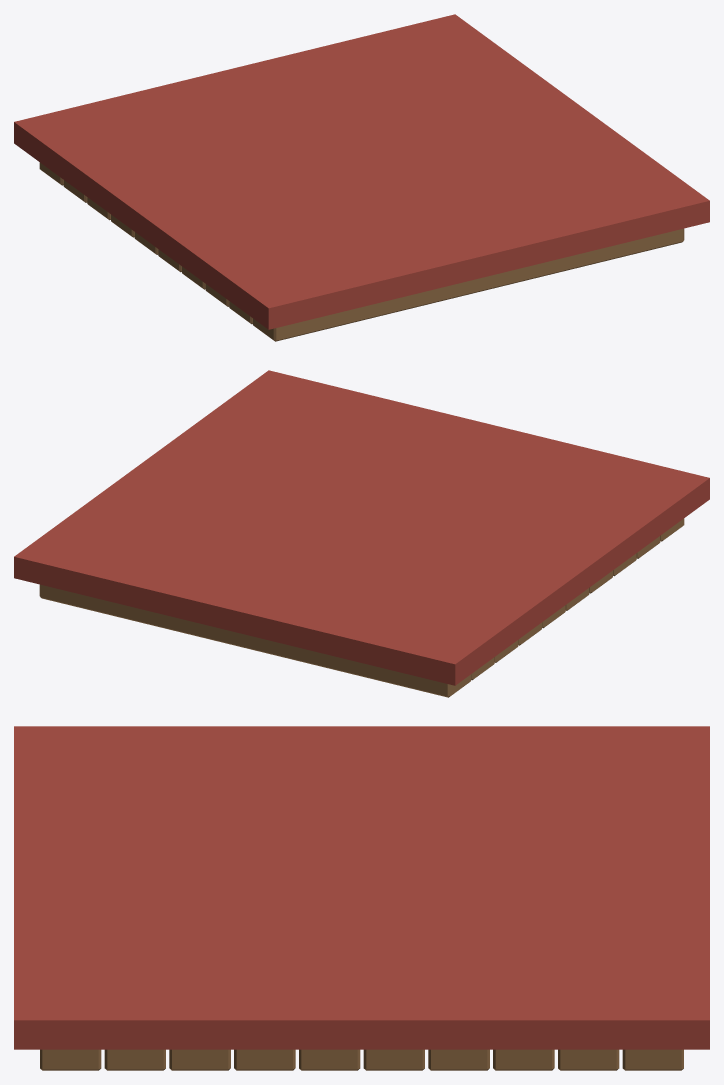
File: harbor-flat-roof.lod0.glb
The picture shows the model from 3 angles, top to bottom: view 1: azimuth 30°, elevation 25°; view 2: azimuth 150°, elevation 25°; view 3: azimuth 270°, elevation 25°; orthographic projection. The views are drawn at different scales.
Parts seen in each view (by area): view 1: harbor-flat-roof__roof, harbor-flat-roof__body; view 2: harbor-flat-roof__roof, harbor-flat-roof__body; view 3: harbor-flat-roof__roof, harbor-flat-roof__body.
Part boxes in pixels (x1,y1,x2,y2): harbor-flat-roof__roof: [14, 14, 709, 329]; harbor-flat-roof__body: [39, 162, 684, 341]; harbor-flat-roof__roof: [14, 370, 709, 685]; harbor-flat-roof__body: [39, 518, 684, 697]; harbor-flat-roof__roof: [14, 726, 709, 1049]; harbor-flat-roof__body: [40, 1049, 683, 1070].
Bounding box in the file's own units: 2.15 × 0.21 × 2.15.
